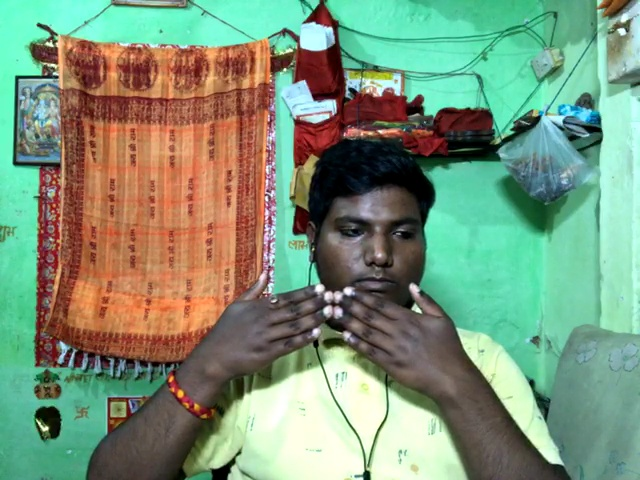Thanks: (163, 258, 495, 434)
